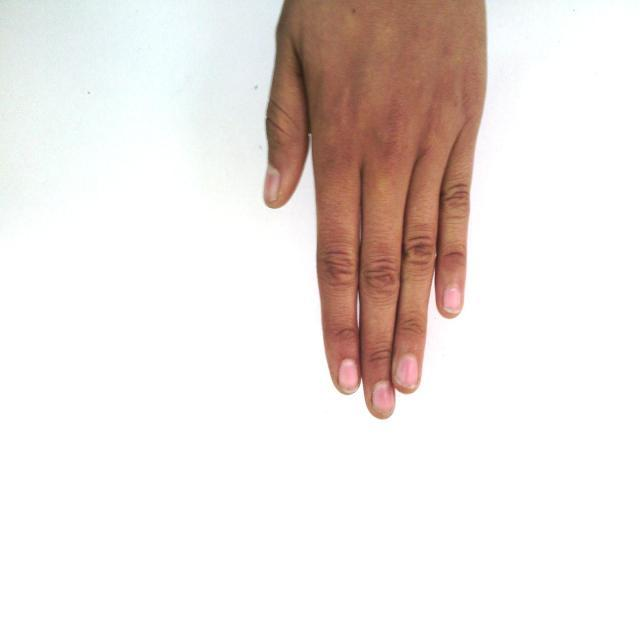Fingernail: (373, 381, 394, 413), (398, 355, 418, 388), (339, 359, 359, 391), (264, 166, 280, 202), (444, 289, 461, 313)
